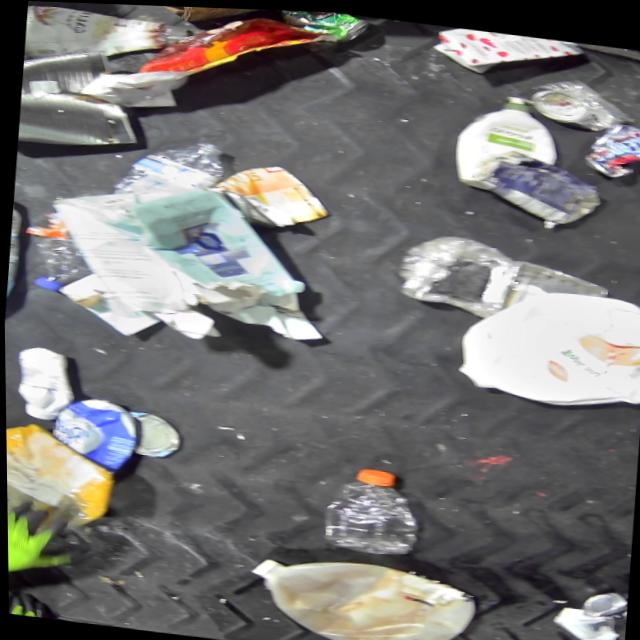can: (15, 49, 157, 162), (465, 141, 615, 230), (205, 154, 342, 237), (518, 67, 627, 129), (577, 108, 640, 179), (571, 569, 628, 627)
milk_jug: (436, 270, 640, 409), (239, 542, 479, 640)
plastic_bottle: (312, 457, 436, 564), (104, 128, 226, 206), (14, 224, 100, 302)
